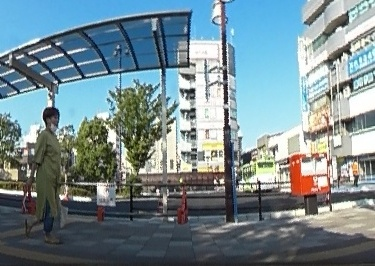person: (30, 103, 65, 243)
